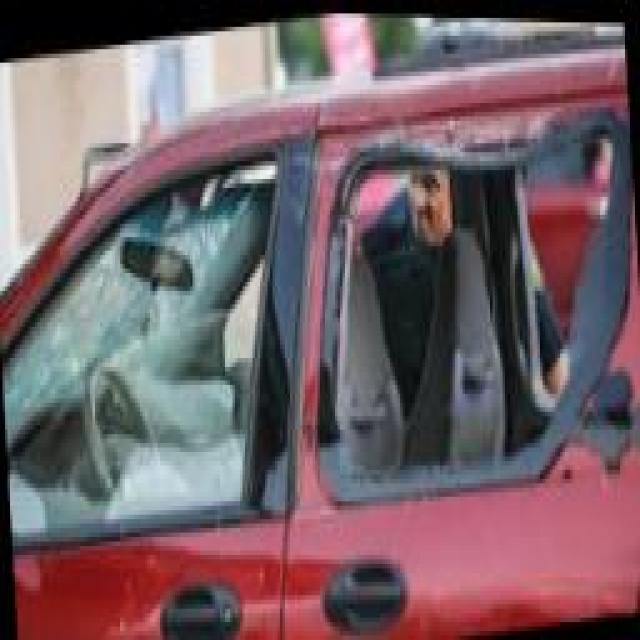Door: (276, 73, 640, 640), (0, 125, 302, 640)
Windshield: (8, 184, 248, 404)
